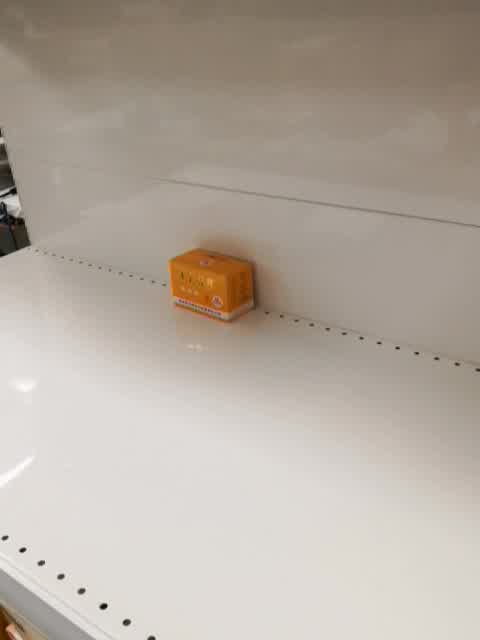jasminetea: (168, 246, 257, 326)
